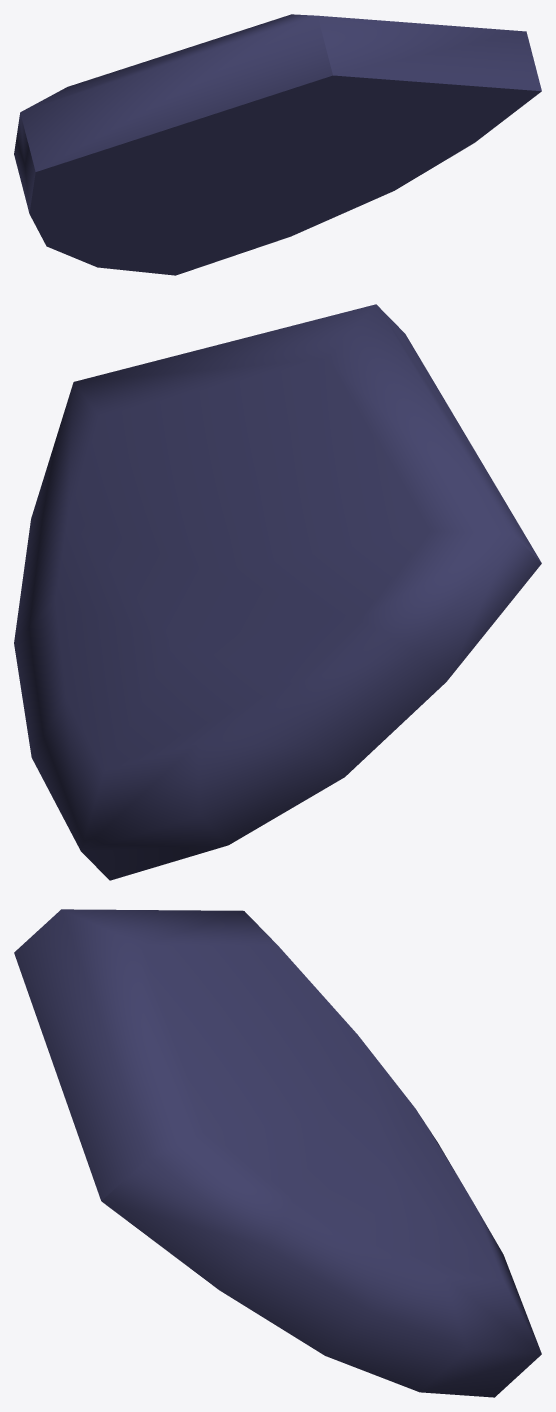
Rendered from GuerreroEscudo_SB1.fbx.
3 views of the same model, one above another, from view 1: azimuth 30°, elevation 25°; view 2: azimuth 150°, elevation 25°; view 3: azimuth 270°, elevation 25° (orthographic). The views are drawn at different scales.
Parts seen in each view (by area): view 1: GuerreroEscudo_SB1; view 2: GuerreroEscudo_SB1; view 3: GuerreroEscudo_SB1.
Boxes of the visible parts, left/top/right/bottom form: GuerreroEscudo_SB1: left=14, top=14, right=541, bottom=275; GuerreroEscudo_SB1: left=14, top=304, right=541, bottom=880; GuerreroEscudo_SB1: left=14, top=909, right=541, bottom=1397.
Bounding box in the file's own units: 39.16 × 33.41 × 34.89.
